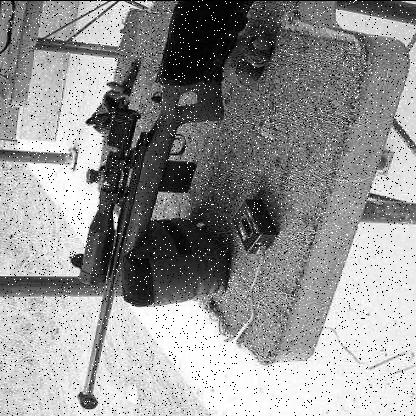rifle: (43, 1, 284, 409)
